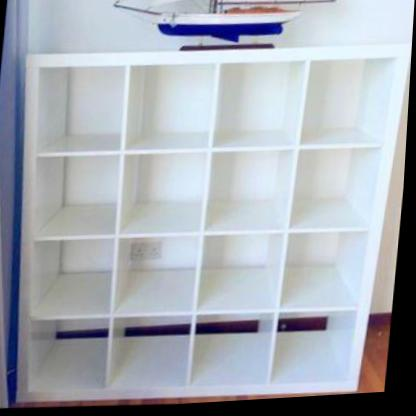Shelf: (0, 32, 414, 415)
